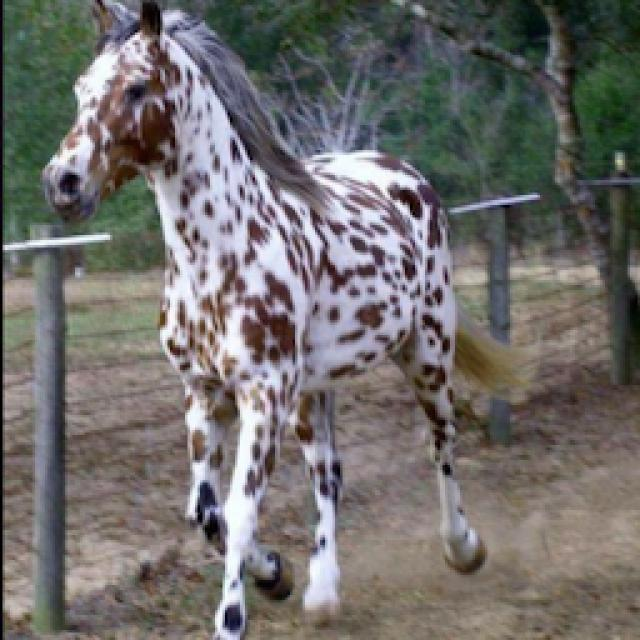Horse: (38, 0, 538, 638)
